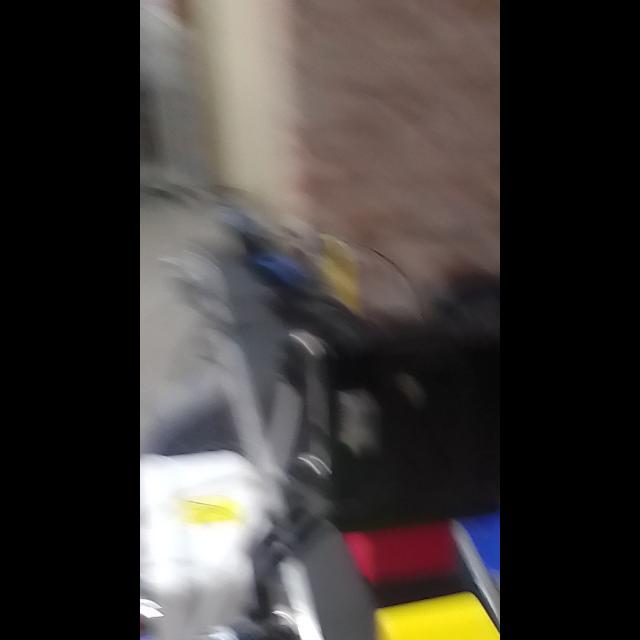redBox: (340, 508, 470, 594)
yellowBox: (366, 582, 499, 640)
